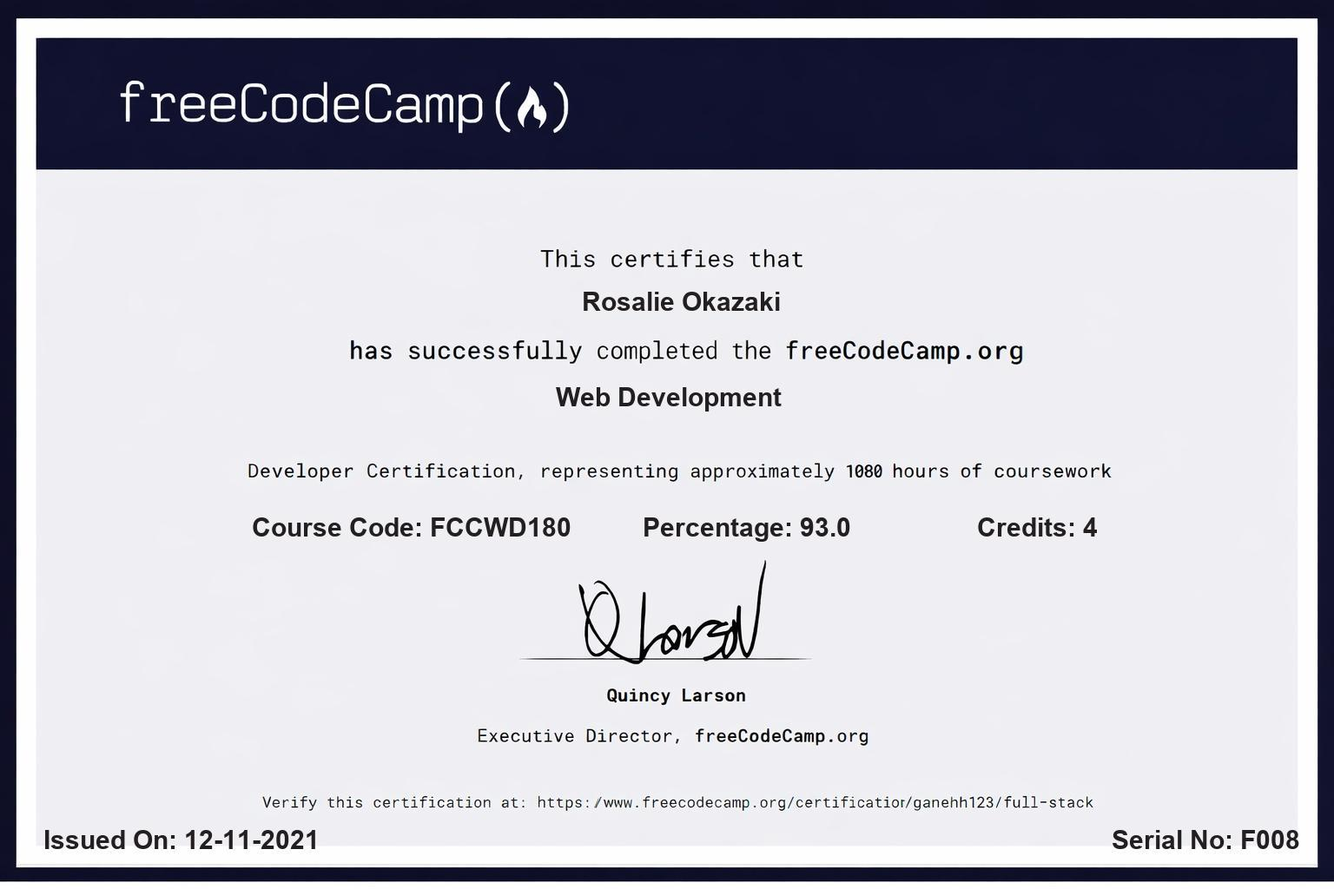Course Code: (424, 508, 580, 550)
Course Name: (547, 374, 789, 427)
Credits: (1078, 508, 1104, 548)
Issued On: (178, 819, 326, 859)
Percentage: (795, 504, 856, 548)
Serial No: (1235, 819, 1307, 860)
Student Name: (575, 280, 790, 324)
